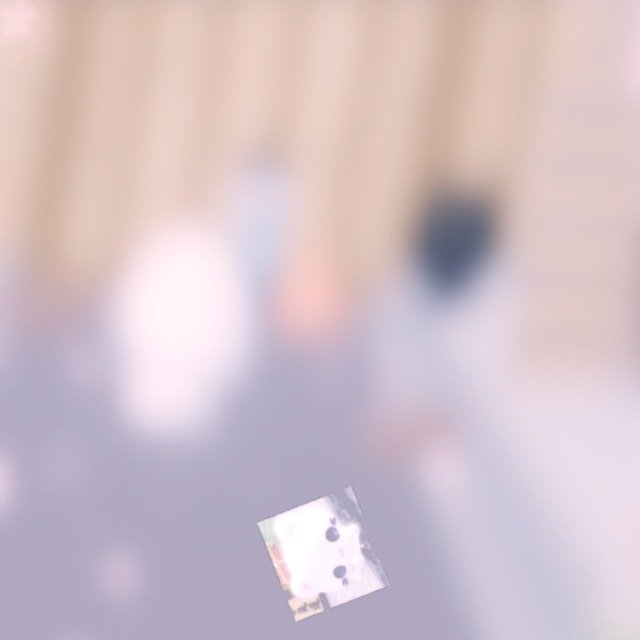urso_branco: (257, 486, 390, 622)
